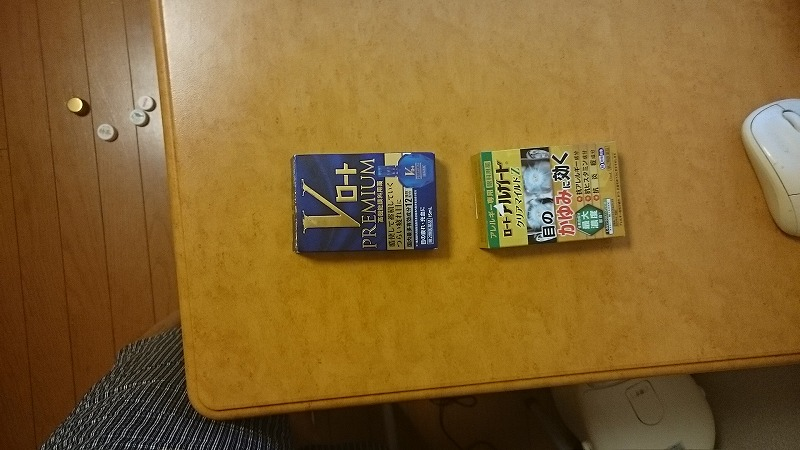C: (469, 134, 637, 252)
D: (289, 147, 440, 254)
